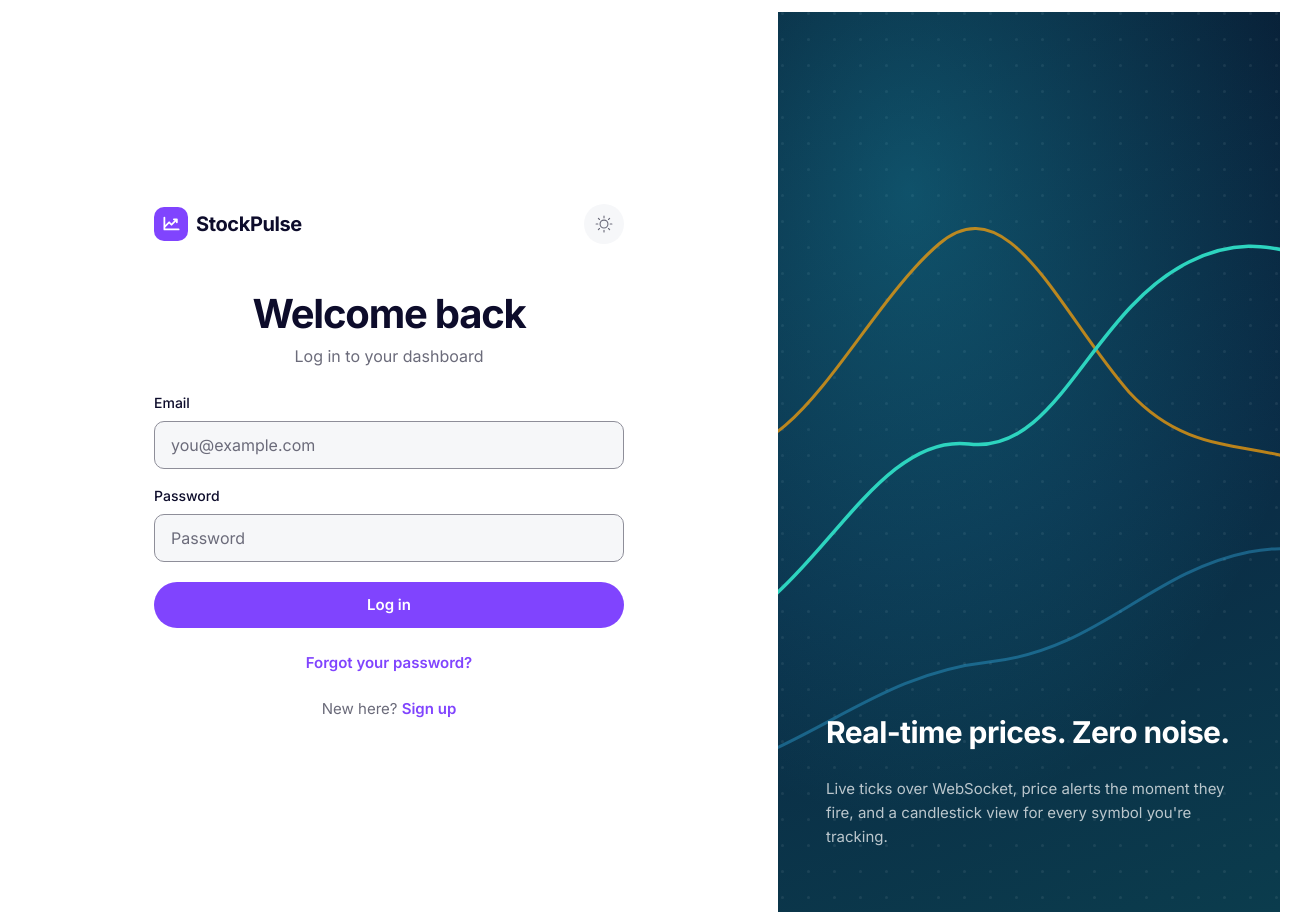
Test: AuthGate › shows the server's error message when login fails
Type "trader@example.com" into the field labelled "Email". click: (389, 444)
box: [154,420,624,468]
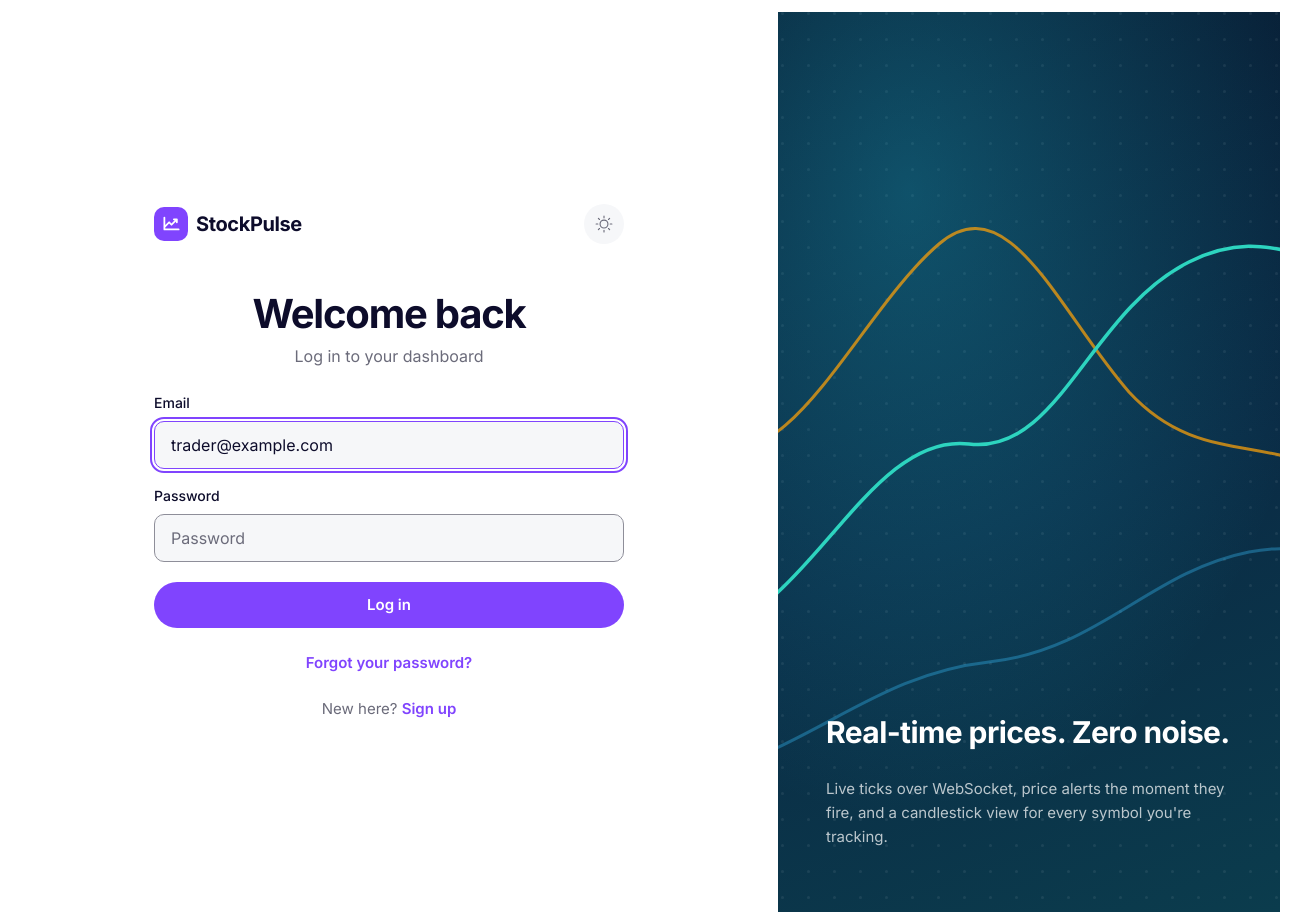
Type "wrong-password" into the password field labelled "Password". click: (389, 538)
box: [154,514,624,562]
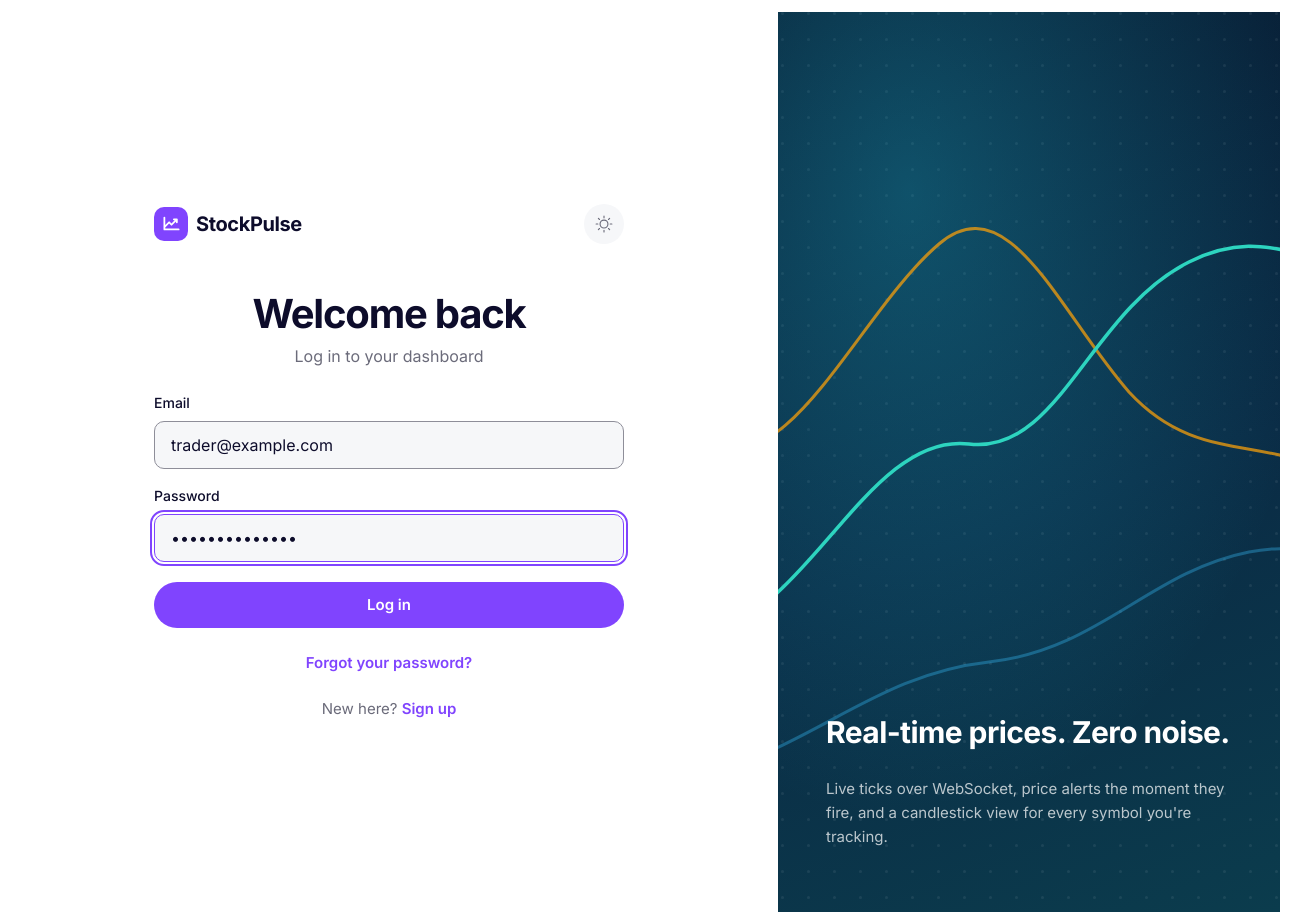
Click the button "Log in". click: click(389, 604)
box: [154,582,624,628]
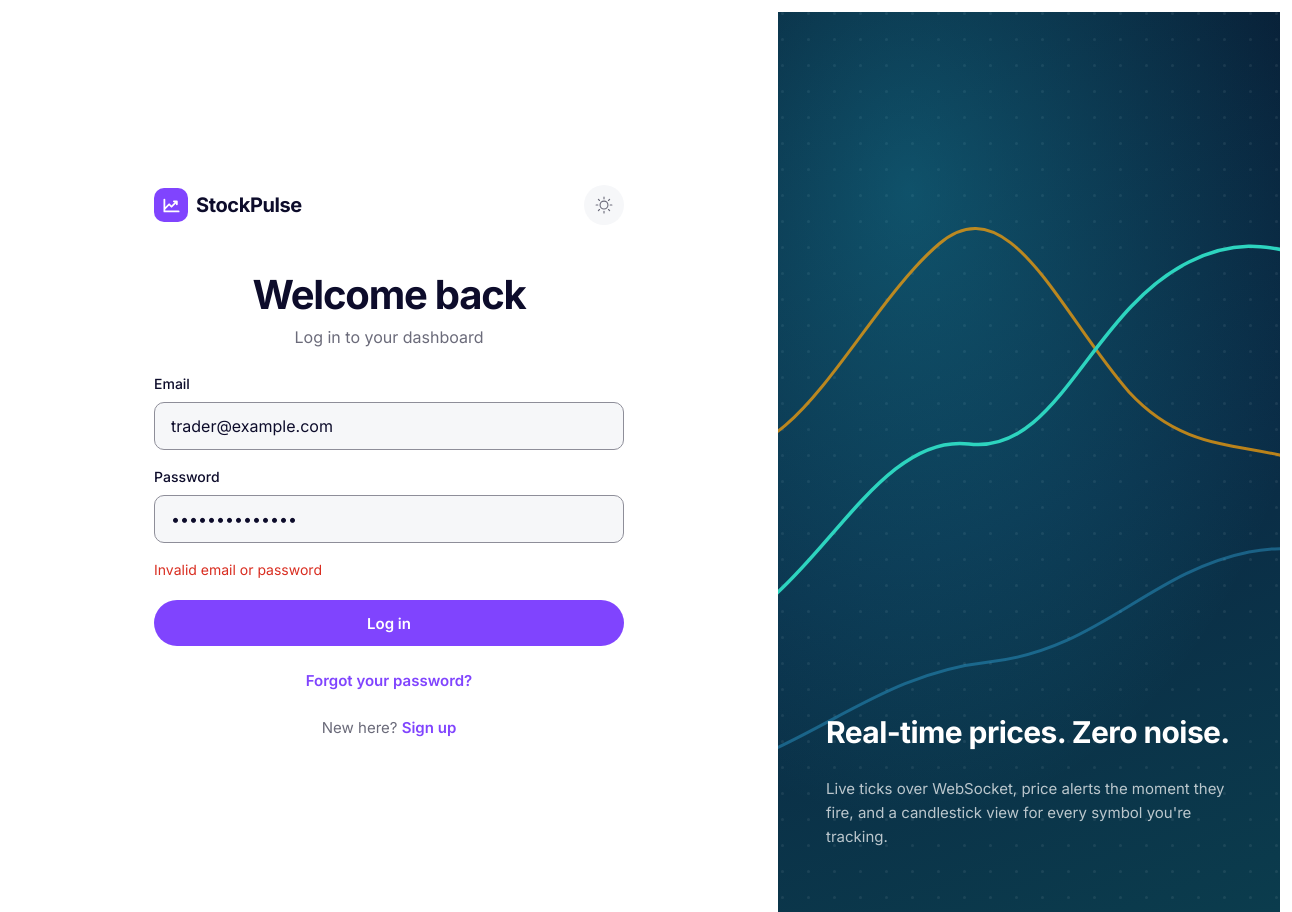
Expected: the message reads "Invalid email or password", [154,561,322,578]
